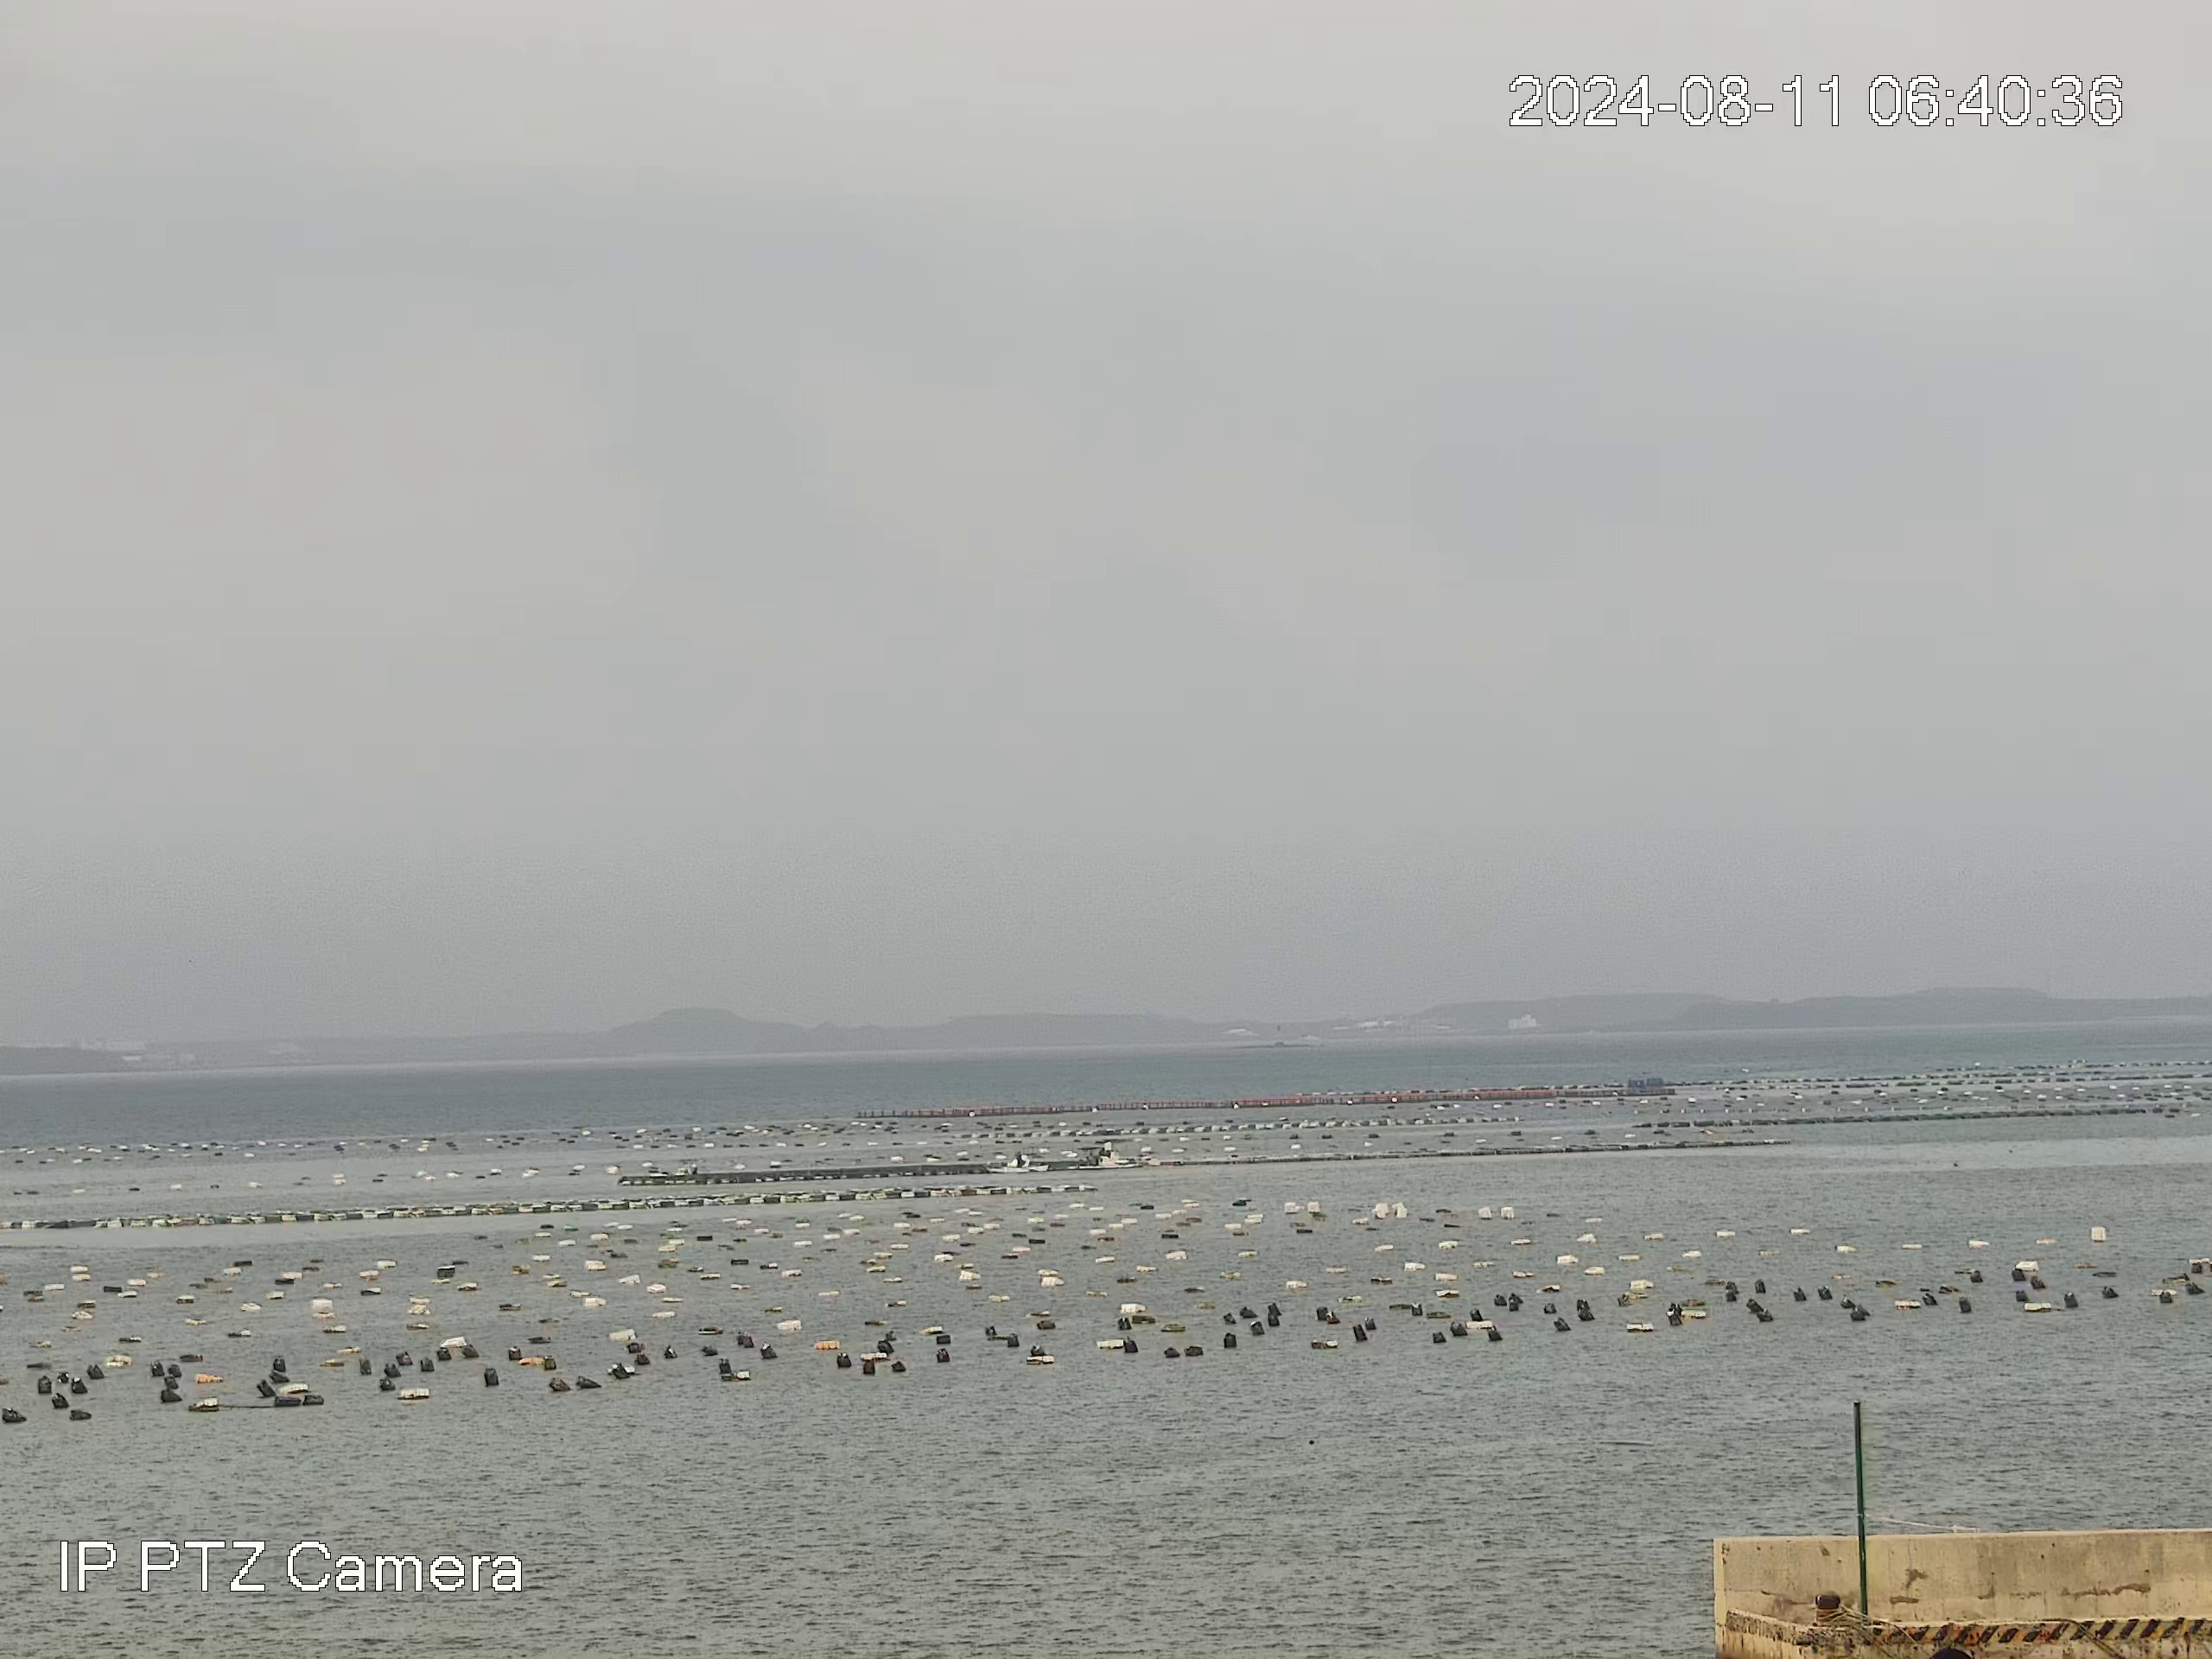boat: (982, 1152, 1050, 1175), (1064, 1145, 1122, 1169)
